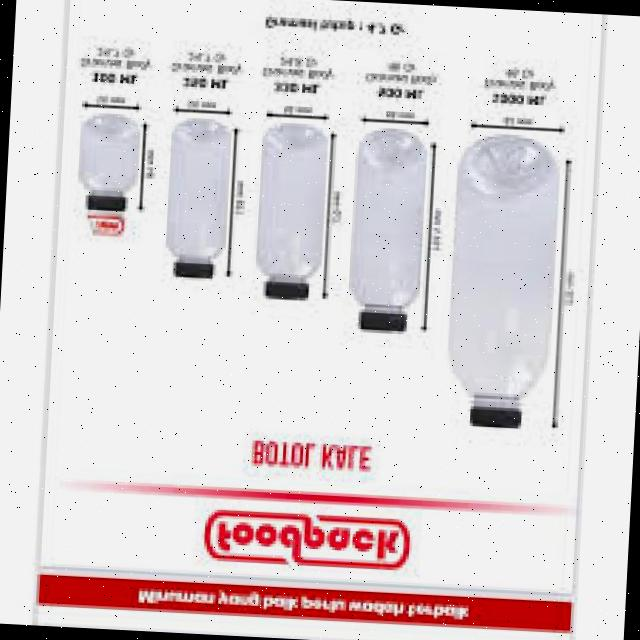bottle: (256, 98, 342, 320)
cap: (468, 401, 534, 433), (350, 305, 418, 335), (260, 280, 316, 308), (84, 190, 134, 216), (167, 259, 218, 283)
